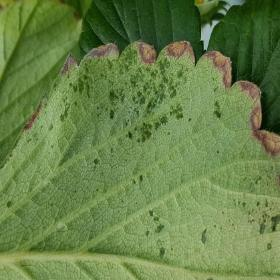Angular Leafspot: (0, 39, 279, 279)
